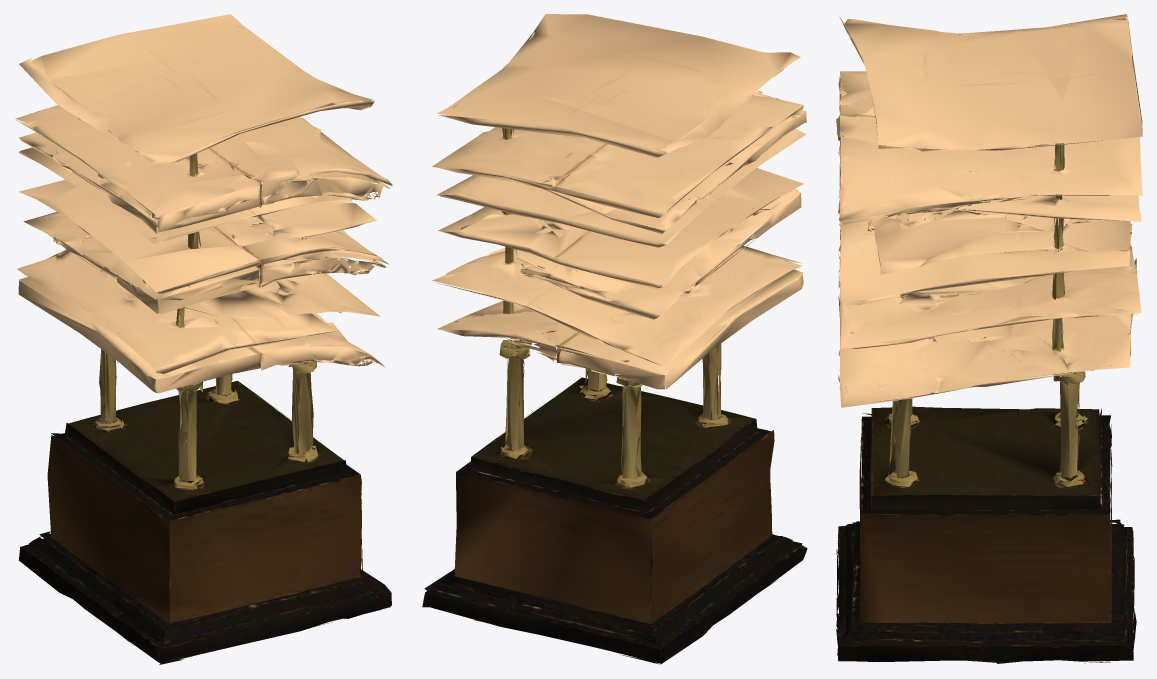
Rendered from trophy-docdiff-v3-lod.glb.
The picture shows the model from 3 angles, left to right: view 1: azimuth 30°, elevation 25°; view 2: azimuth 150°, elevation 25°; view 3: azimuth 270°, elevation 25°; orthographic projection. The views are drawn at different scales.
Visible parts, largest first — view 1: world; view 2: world; view 3: world.
Part boxes in pixels (x1,y1,x2,y2): world: (15, 14, 392, 664); world: (422, 14, 807, 664); world: (836, 14, 1142, 663).
Bounding box in the file's own units: 0.504 × 1.01 × 0.525.
Materials: 1 (1 with a texture image).
